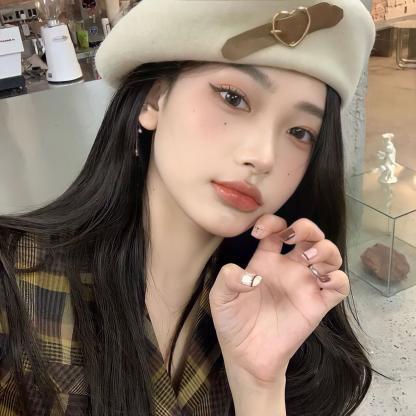person: (124, 24, 372, 244)
